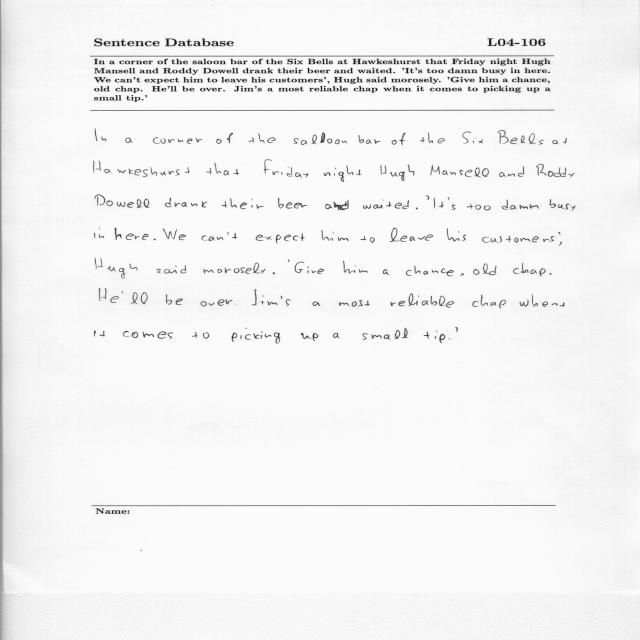word: (93, 160, 190, 177), (390, 294, 454, 308), (95, 258, 137, 279), (264, 160, 308, 178), (232, 328, 281, 344), (430, 165, 489, 178), (497, 130, 544, 145), (293, 132, 347, 145), (95, 195, 149, 208), (204, 263, 266, 274), (324, 165, 362, 182), (390, 228, 433, 242), (520, 294, 565, 307), (381, 164, 415, 181), (363, 328, 408, 340), (482, 236, 555, 243), (537, 164, 575, 177), (256, 234, 305, 244), (406, 266, 454, 276), (473, 295, 507, 309), (222, 198, 264, 209), (363, 199, 409, 209), (206, 163, 239, 176), (252, 289, 277, 306), (165, 198, 207, 208), (114, 228, 149, 240), (513, 263, 545, 276), (123, 331, 173, 339), (502, 200, 539, 210), (295, 262, 324, 274), (153, 137, 202, 144), (122, 291, 148, 304), (343, 261, 368, 274), (278, 198, 307, 209), (202, 232, 237, 241), (550, 199, 576, 211), (99, 288, 119, 303), (321, 230, 348, 241), (248, 133, 276, 143), (499, 166, 524, 177), (447, 228, 466, 242), (325, 200, 349, 211), (157, 265, 186, 274), (163, 229, 186, 240), (474, 264, 497, 275), (462, 132, 483, 144), (424, 331, 445, 343), (420, 133, 445, 143), (200, 299, 233, 306), (339, 300, 370, 307), (359, 135, 381, 144), (216, 133, 233, 144), (166, 294, 183, 305), (392, 133, 405, 145), (467, 204, 491, 210), (95, 129, 106, 142), (301, 333, 318, 341), (192, 332, 209, 339), (434, 198, 444, 209), (360, 236, 375, 243), (448, 197, 456, 210), (95, 228, 104, 238), (281, 296, 290, 306), (553, 138, 567, 144), (95, 331, 105, 337), (125, 138, 133, 143), (313, 301, 321, 306), (383, 269, 389, 275), (333, 333, 340, 338), (426, 195, 429, 200), (559, 242, 562, 246), (460, 273, 464, 276), (455, 328, 458, 332), (416, 207, 418, 210), (558, 232, 560, 235), (288, 259, 290, 262), (154, 239, 156, 241), (273, 272, 275, 274), (550, 273, 552, 275), (237, 304, 238, 305), (449, 339, 450, 340)
